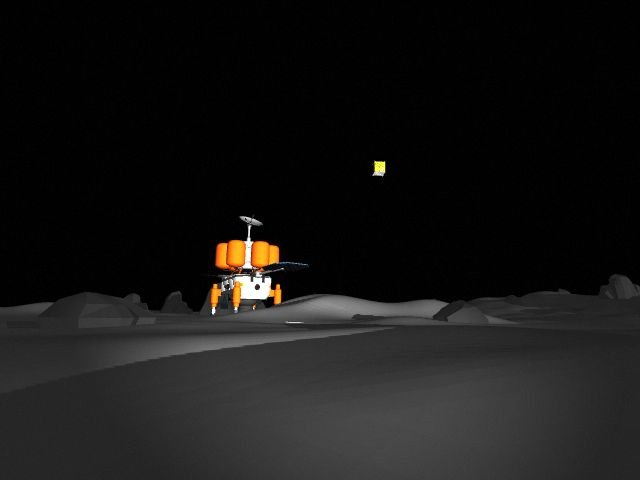homebase: (192, 212, 310, 318)
